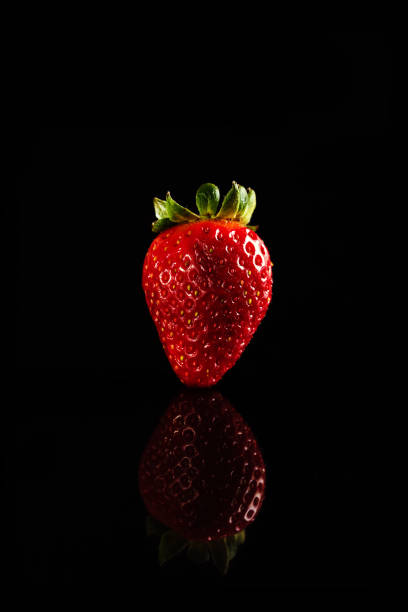Fresa: (141, 205, 275, 389)
